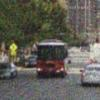buses: (38, 39, 68, 78)
